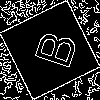B: (25, 25, 79, 71)
